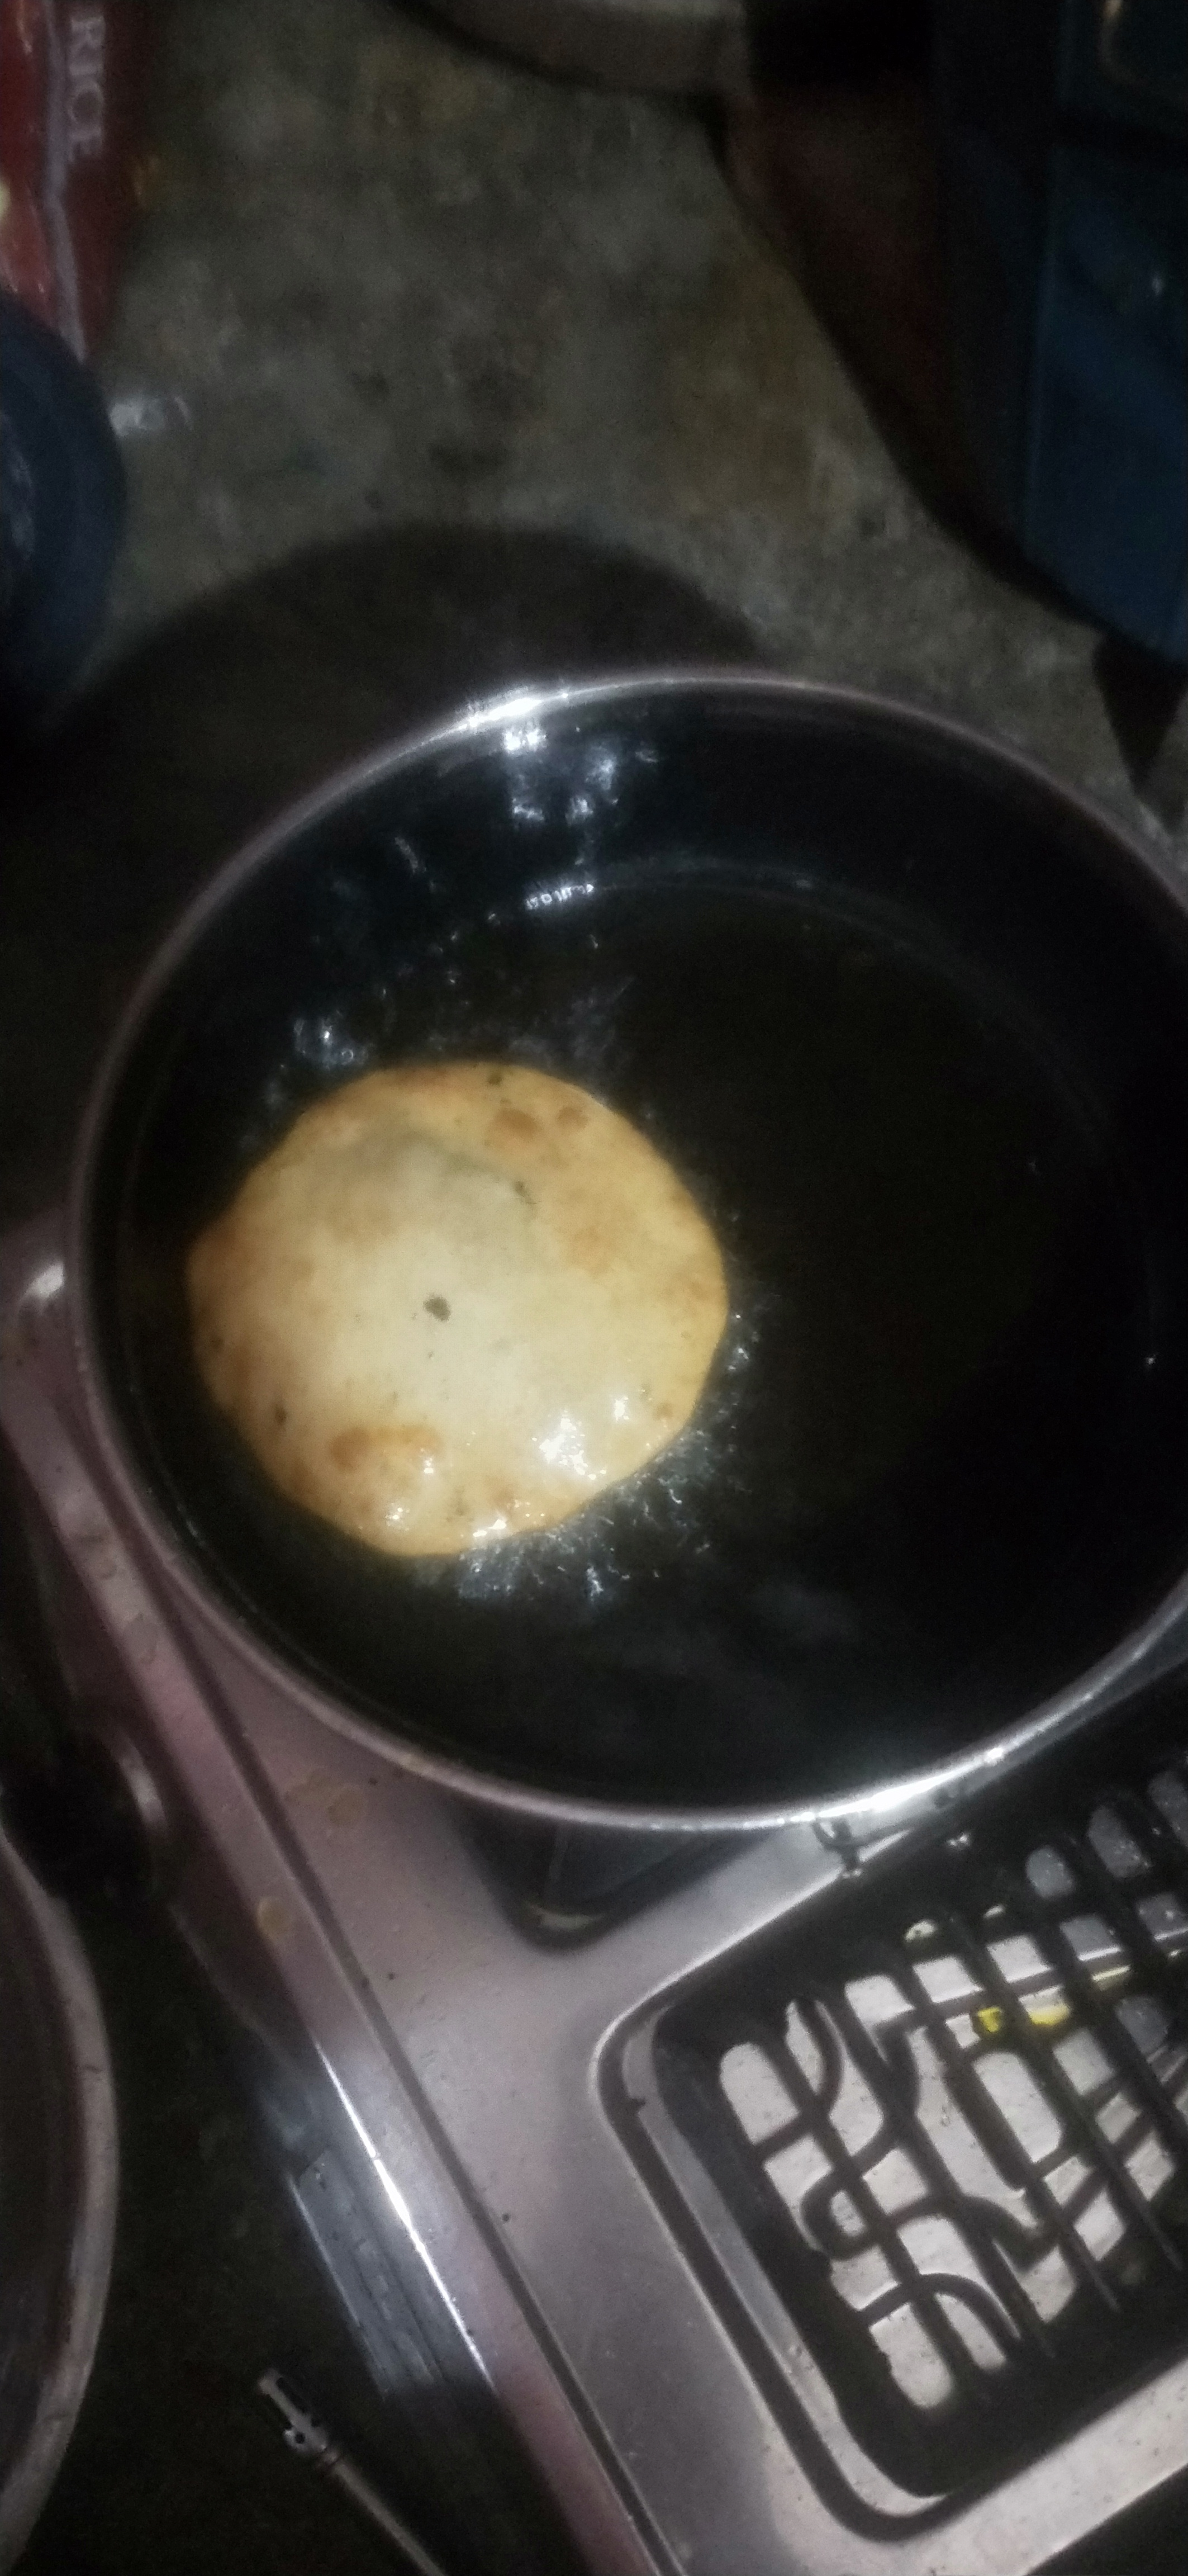food: (177, 1040, 743, 1571)
